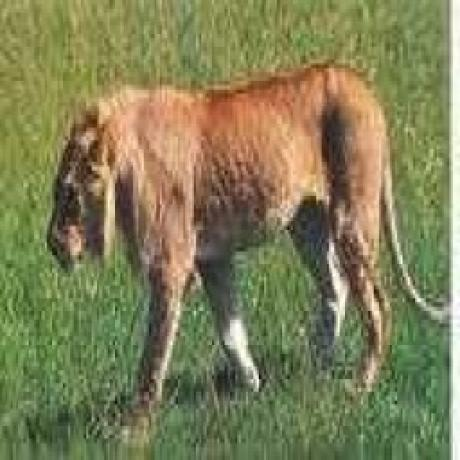Lion: (44, 56, 448, 411)
